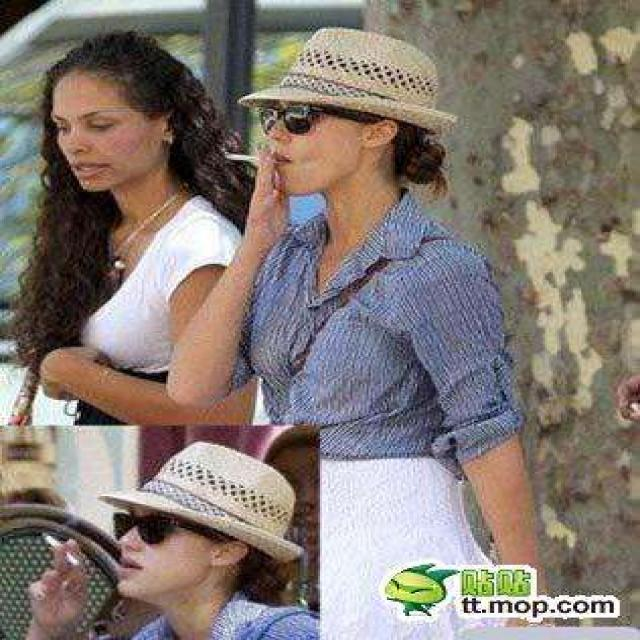smoke: (228, 146, 288, 171)
